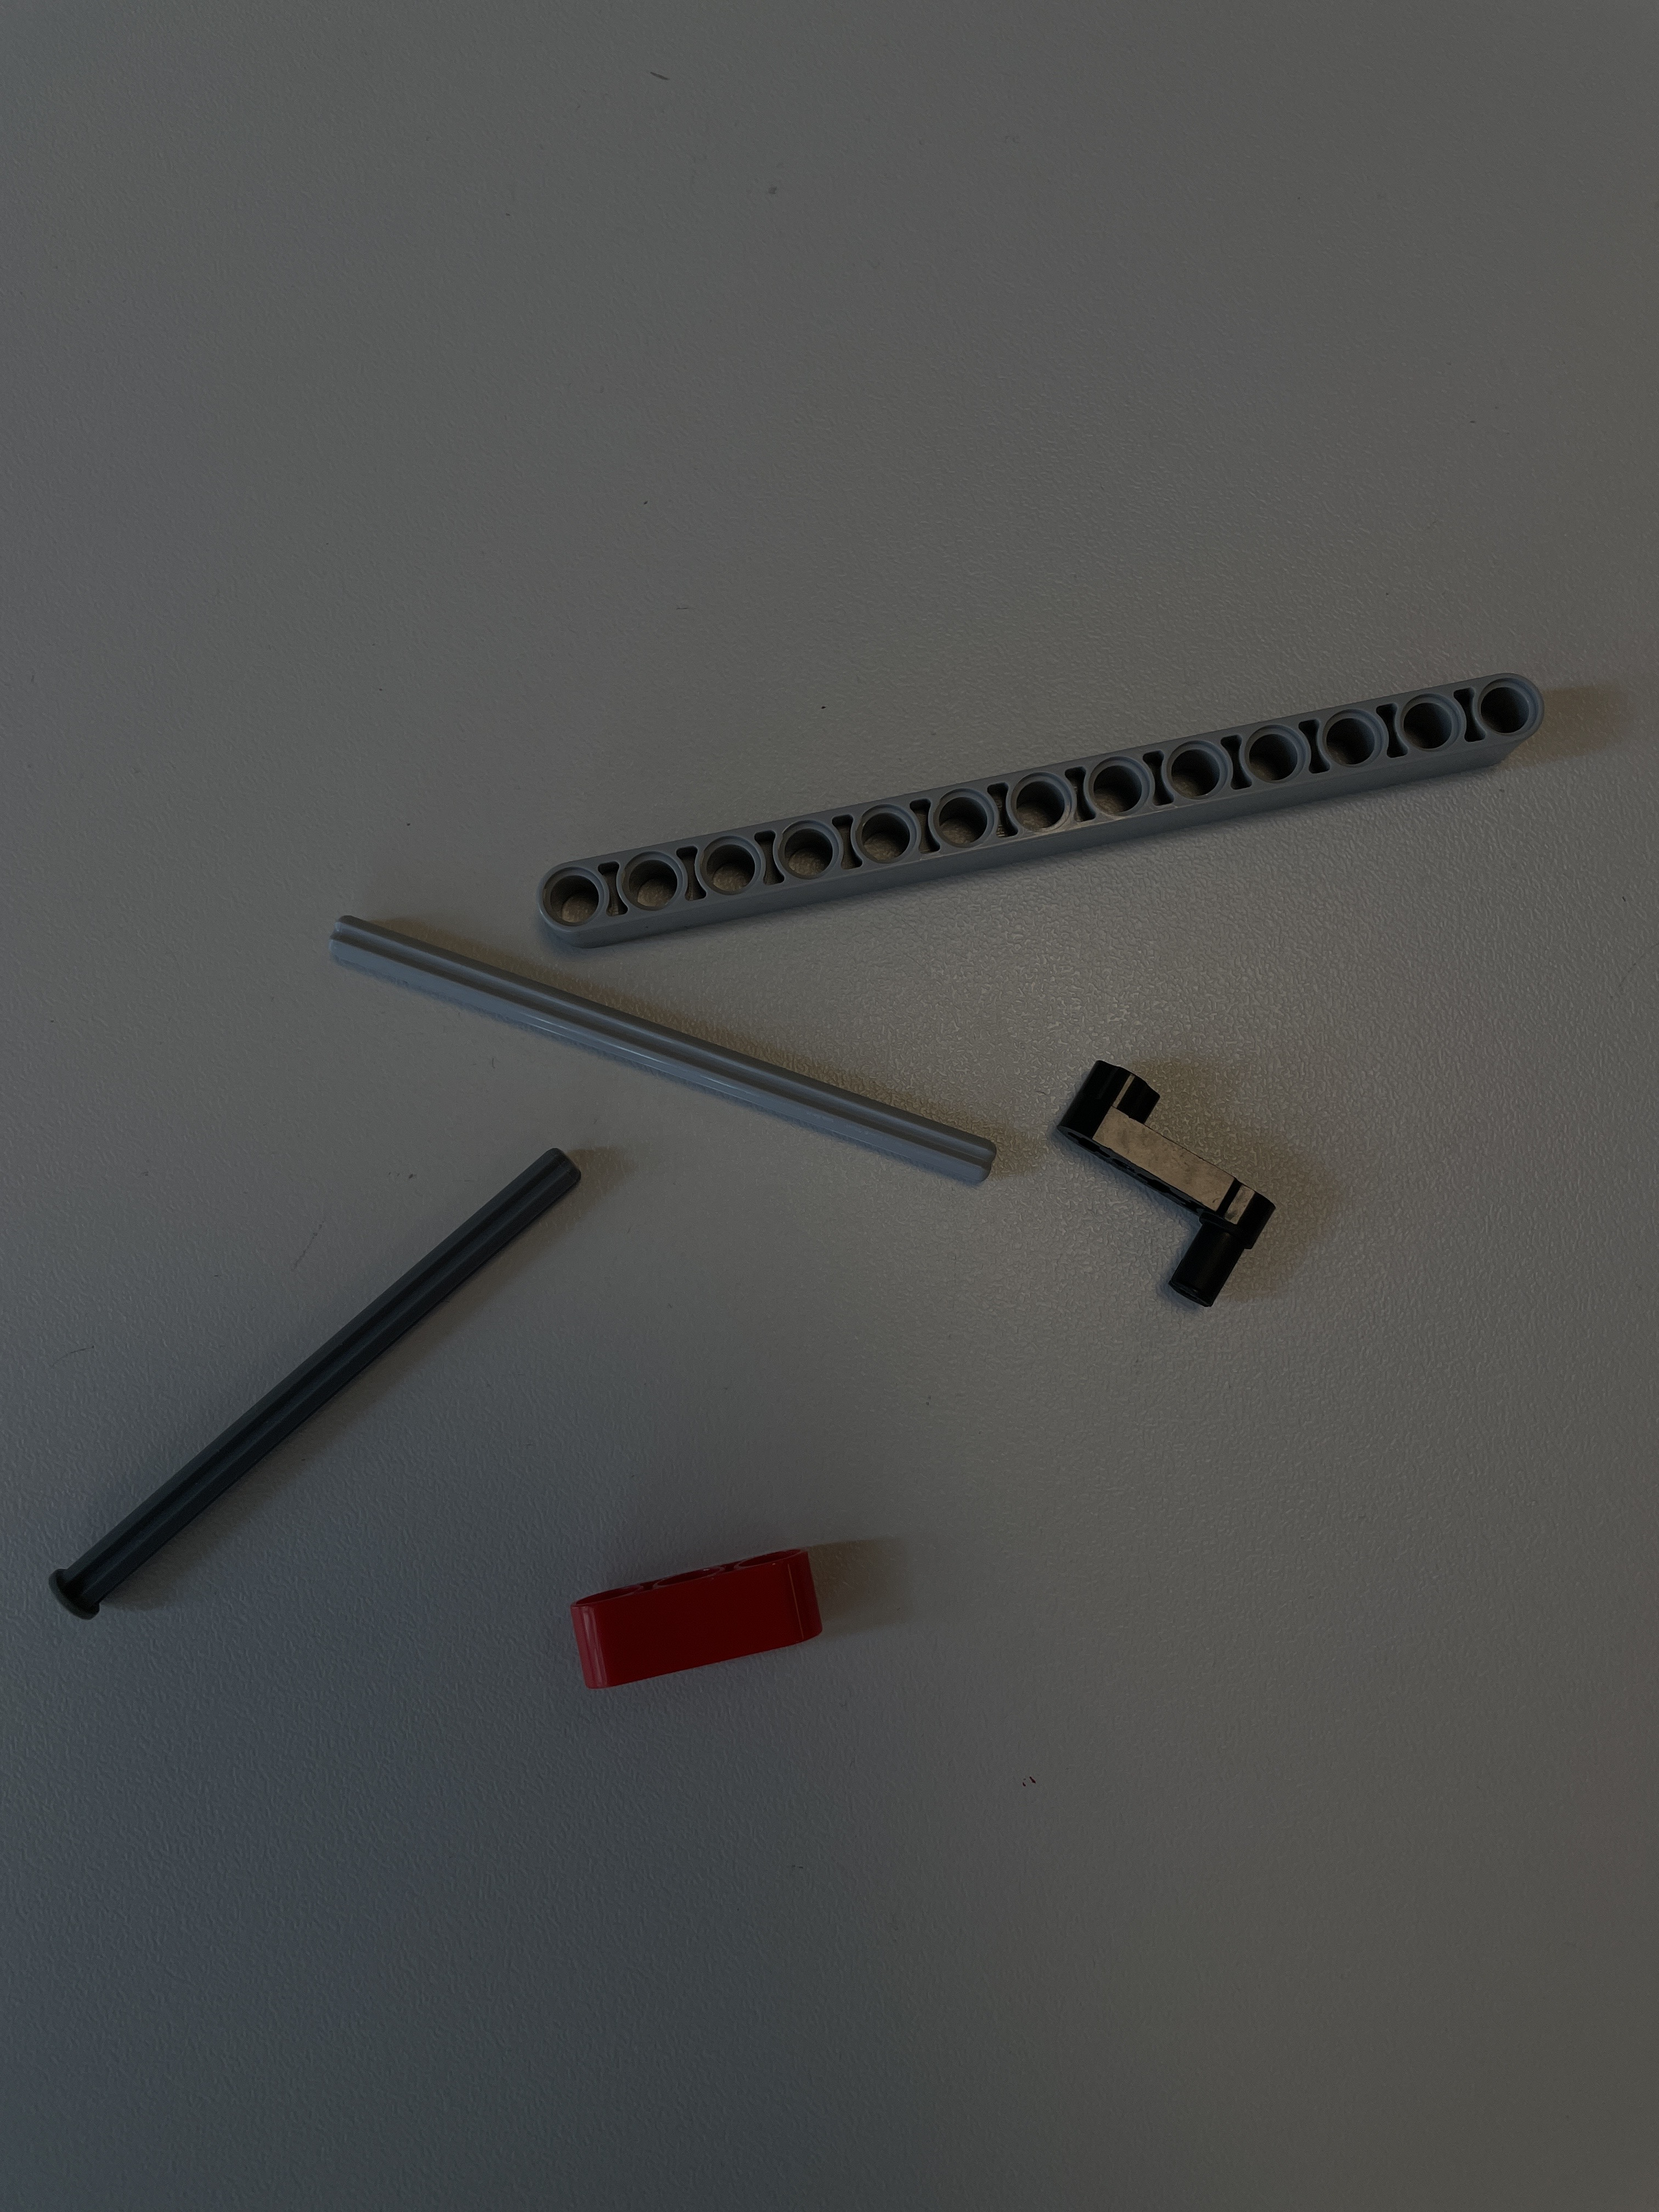13gat: (526, 662, 1551, 956)
3gat: (566, 1540, 831, 1703)
plusstaaf: (319, 907, 1004, 1193)
plusstaafdicht: (42, 1134, 586, 1639)
verbindstukzwart: (1051, 1042, 1286, 1322)
